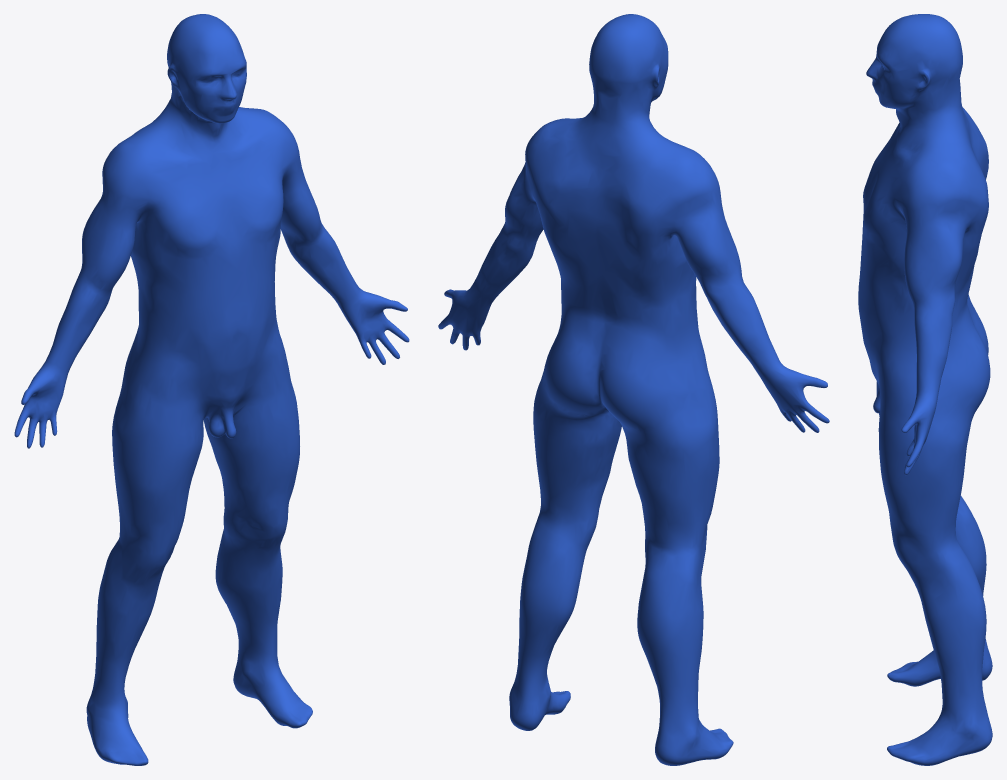
Rendered from hra-body.glb.
3 renders of one model, left to right at view 1: azimuth 30°, elevation 25°; view 2: azimuth 150°, elevation 25°; view 3: azimuth 270°, elevation 25°, orthographic. The views are drawn at different scales.
Parts seen in each view (by area): view 1: VH_M_skin; view 2: VH_M_skin; view 3: VH_M_skin.
Boxes of the visible parts, x1=… form: VH_M_skin: x1=14, y1=14, x2=409, y2=765; VH_M_skin: x1=438, y1=14, x2=829, y2=765; VH_M_skin: x1=858, y1=14, x2=992, y2=765.
Bounding box in the file's own units: 1.05 × 1.83 × 0.316.
